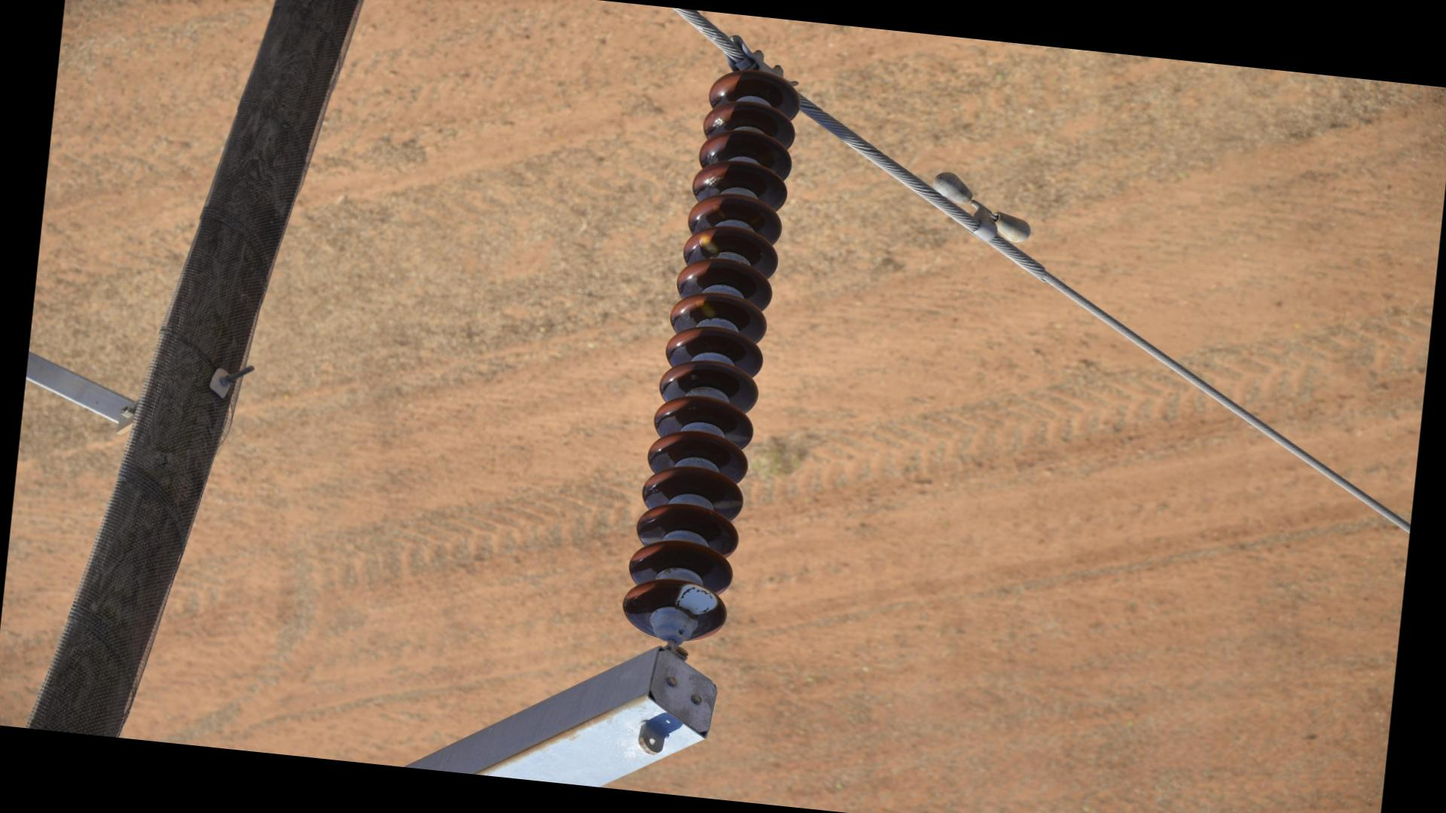damper: (922, 166, 1039, 251)
